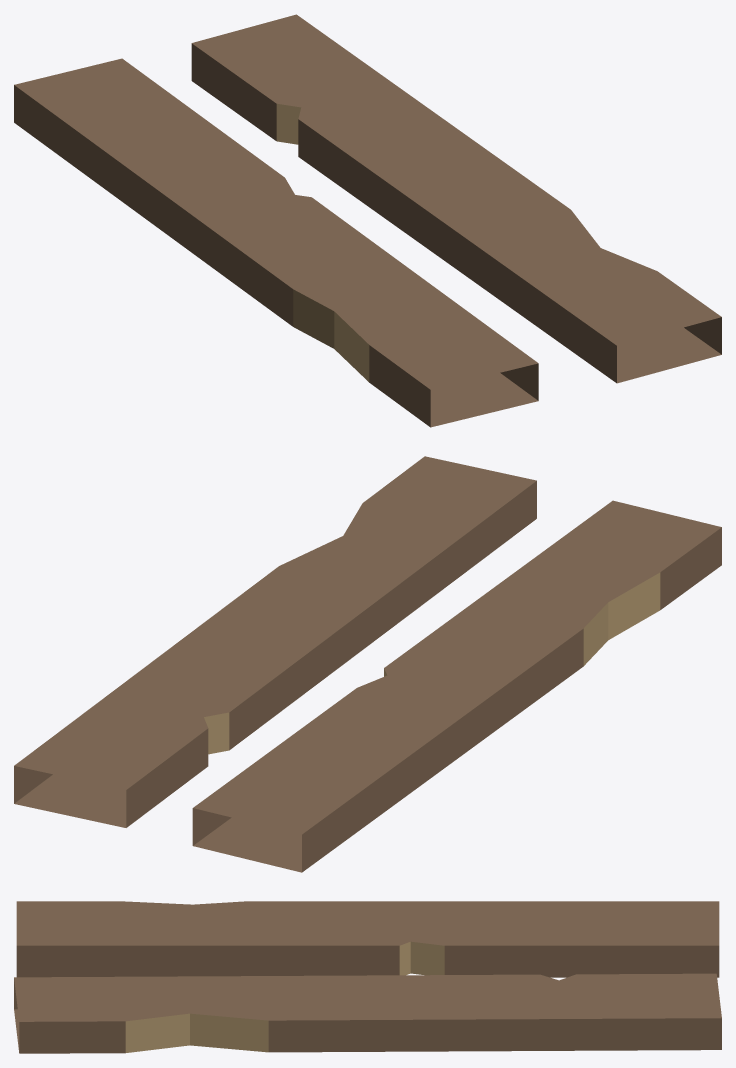
File: Cave_Prop_Support_Ceiling_Boards_1.obj
3 views of the same model, one above another, from view 1: azimuth 30°, elevation 25°; view 2: azimuth 150°, elevation 25°; view 3: azimuth 270°, elevation 25° (orthographic). The views are drawn at different scales.
Visible parts, largest first — view 1: object2, object1; view 2: object2, object1; view 3: object1, object2.
Part boxes in pixels (x1,y1,x2,y2): object2: [14, 58, 538, 427]; object1: [191, 14, 721, 383]; object2: [192, 500, 721, 872]; object1: [14, 456, 536, 827]; object1: [14, 973, 721, 1053]; object2: [16, 901, 719, 977].
Bounding box in the file's own units: 0.8124 × 0.1 × 2.01.
